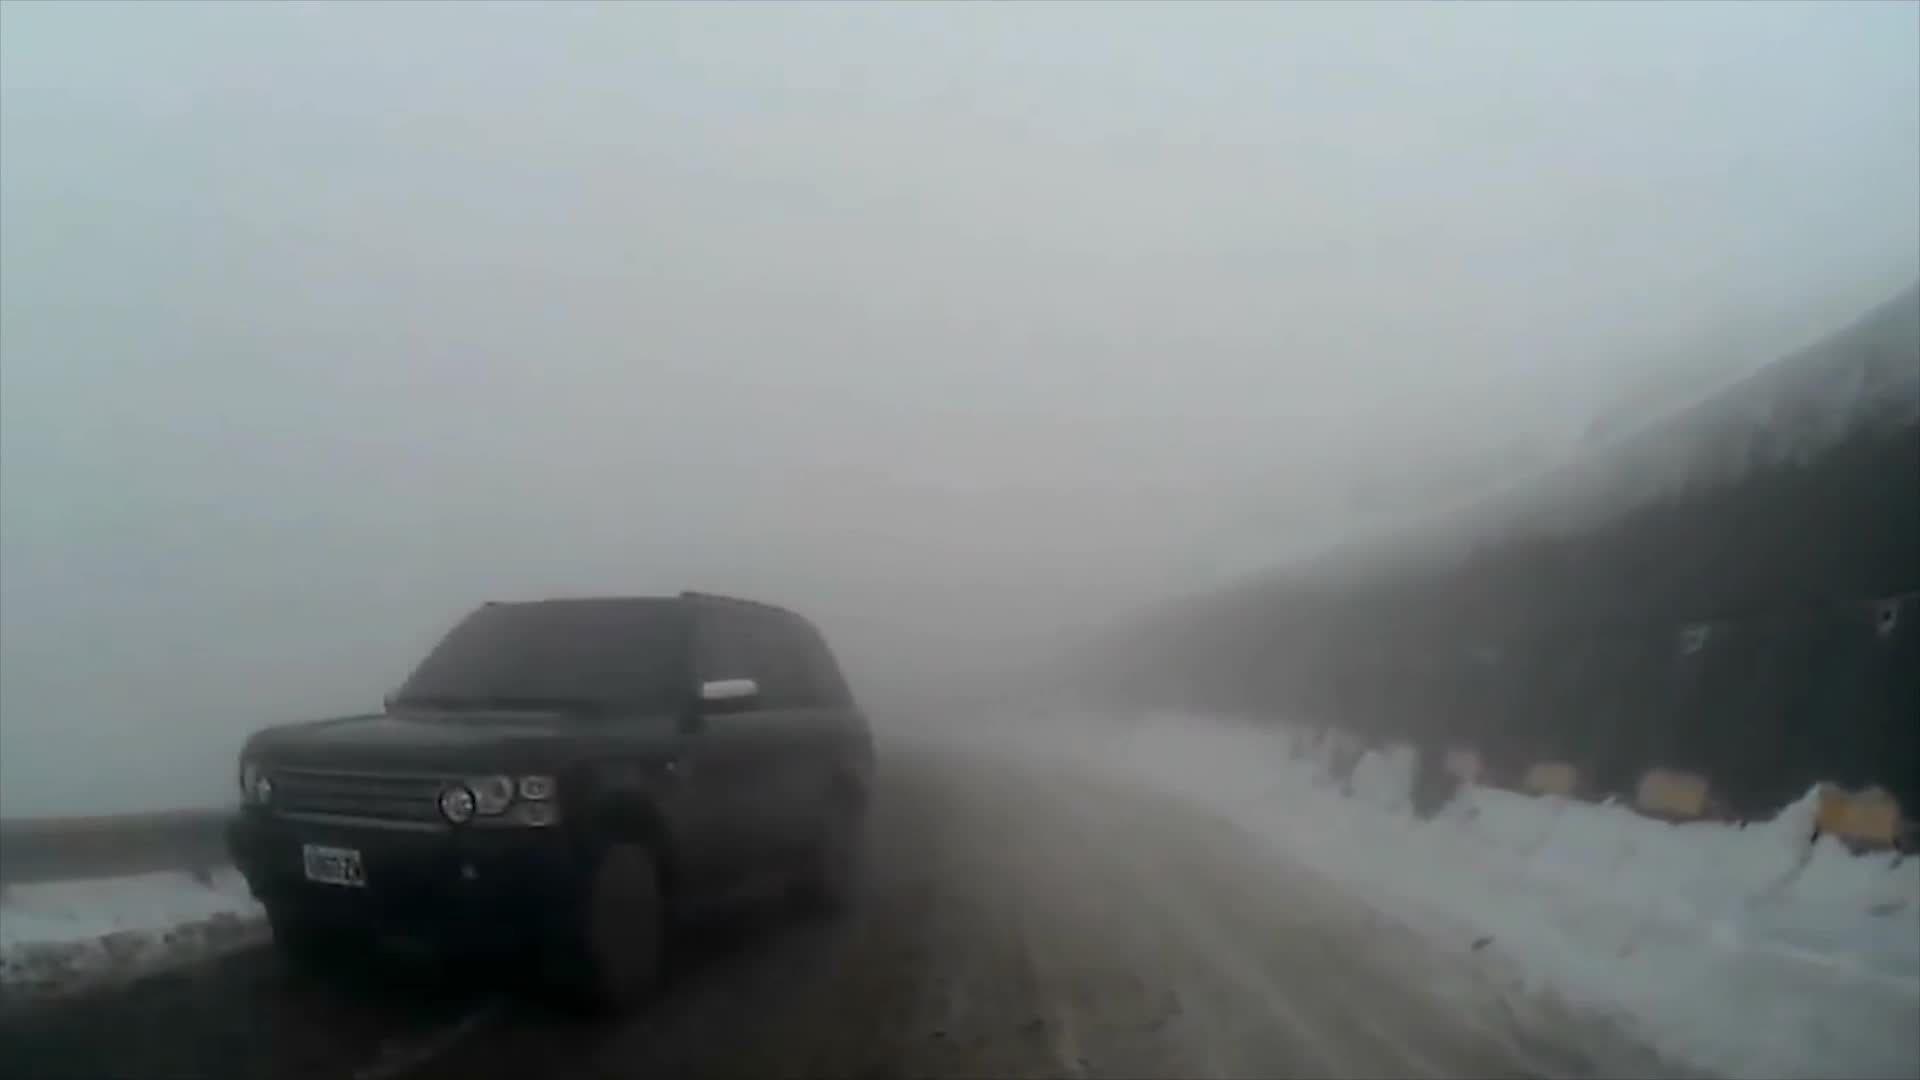vehicle: (224, 588, 876, 1026)
